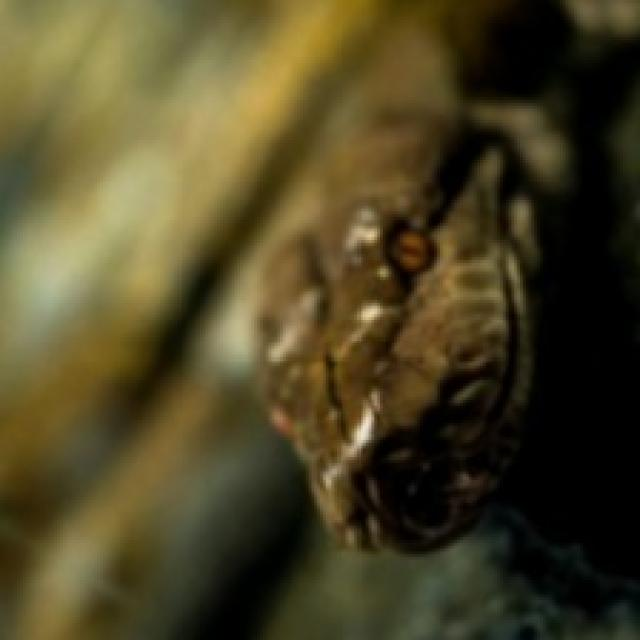reticulated python: (259, 0, 575, 551)
